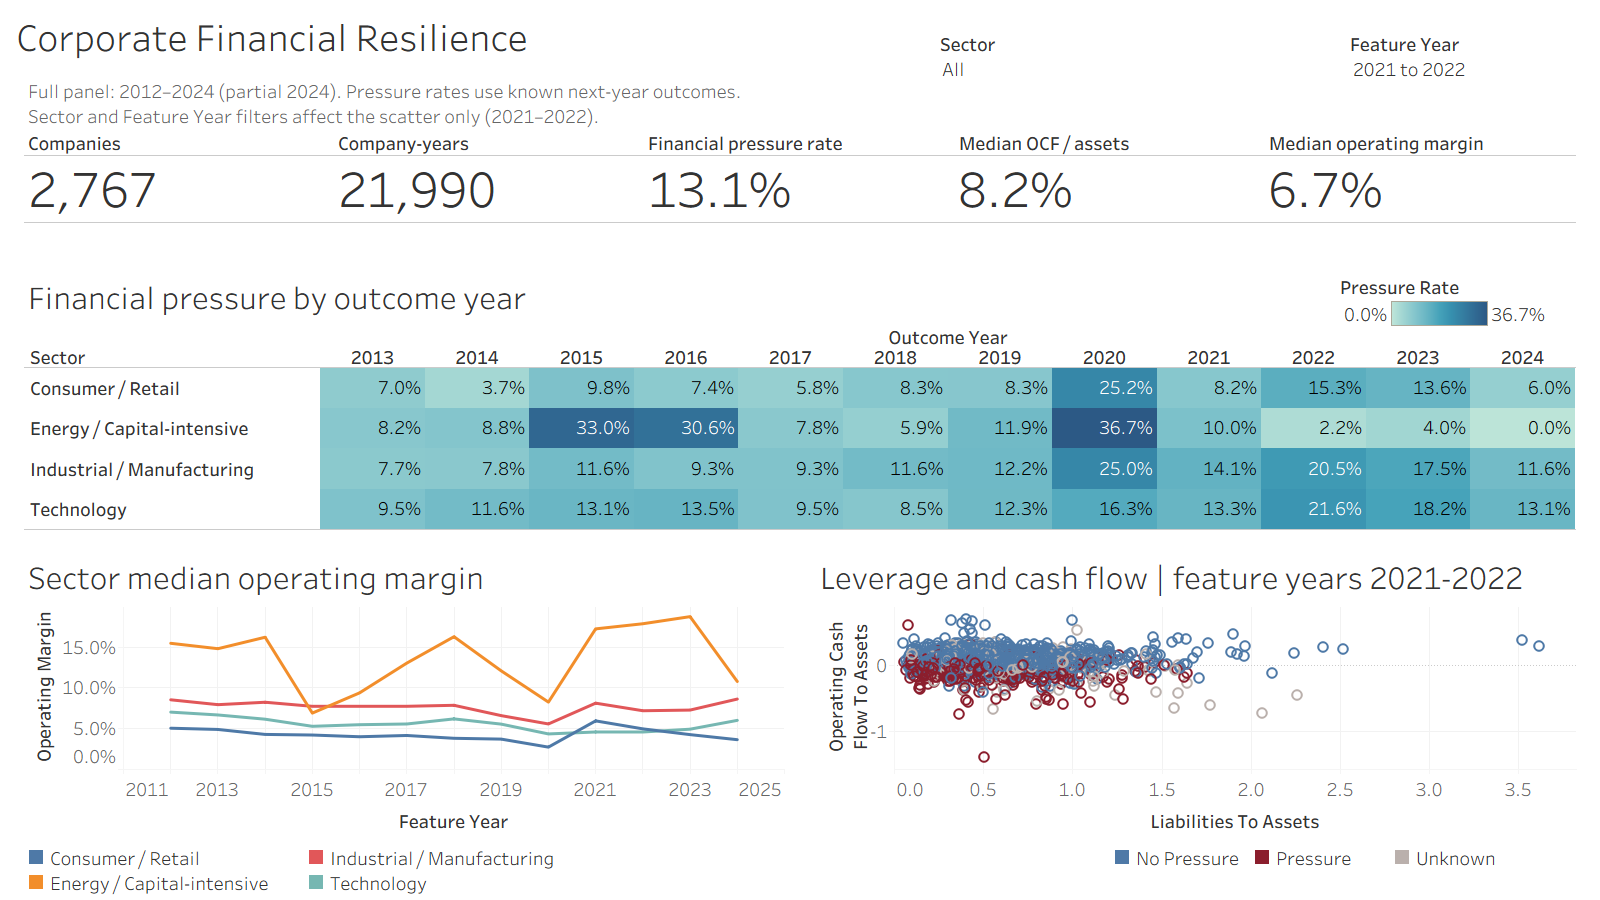

This screenshot's page, from the dashboard's own definition file:
{"tool":"tableau","page":{"name":"Corporate Financial Resilience","canvas":[1600,900],"ordinal":0},"visuals":[{"type":"title","box":[8,8,1584,58]},{"type":"filter","title":"Leverage and cash flow | feature years 2021-2022","param":"[federated.0df5kgj1ynfg3118k1z3f00quwk8].[none:sector:nk]","box":[940,30,390,66]},{"type":"filter","title":"Leverage and cash flow | feature years 2021-2022","param":"[federated.0df5kgj1ynfg3118k1z3f00quwk8].[none:feature_year:qk]","box":[1350,30,230,69]},{"type":"text","box":[24,72,887,63]},{"type":"worksheet","title":"Full-panel indicators","mark":"Automatic","cols":["label"],"box":[24,115,1552,128]},{"type":"worksheet","title":"Financial pressure by outcome year","mark":"Square","rows":["sector"],"cols":["outcome_year"],"box":[24,270,1552,260]},{"type":"legend","title":"Financial pressure by outcome year","param":"[federated.196mwt91lg9fp91179uvn09qubtz].[sum:pressure_rate:qk]","box":[1340,270,210,65]},{"type":"worksheet","title":"Sector median operating margin","mark":"Automatic","rows":["operating_margin"],"cols":["feature_year"],"box":[24,550,760,290]},{"type":"worksheet","title":"Leverage and cash flow | feature years 2021-2022","mark":"Automatic","rows":["operating_cash_flow_to_assets"],"cols":["liabilities_to_assets"],"box":[816,550,760,290]},{"type":"legend","title":"Sector median operating margin","param":"[federated.1826ie102ze2gu1e33l2u0szv5iq].[none:sector:nk]","box":[24,845,760,50]},{"type":"legend","title":"Leverage and cash flow | feature years 2021-2022","param":"[federated.0df5kgj1ynfg3118k1z3f00quwk8].[none:outcome_label:nk]","box":[1110,845,466,50]}]}

Visuals, with their boxes in screenshot pixels (x1, y1, x2, y2), scaled from the page's 1600x900 canvas onto the 1600x900 screenshot:
title: detection(8, 8, 1592, 66)
"Leverage and cash flow | feature years 2021-2022" filter: detection(940, 30, 1330, 96)
"Leverage and cash flow | feature years 2021-2022" filter: detection(1350, 30, 1580, 99)
text: detection(24, 72, 911, 135)
"Full-panel indicators" worksheet: detection(24, 115, 1576, 243)
"Financial pressure by outcome year" worksheet (Square marks): detection(24, 270, 1576, 530)
"Financial pressure by outcome year" legend: detection(1340, 270, 1550, 335)
"Sector median operating margin" worksheet: detection(24, 550, 784, 840)
"Leverage and cash flow | feature years 2021-2022" worksheet: detection(816, 550, 1576, 840)
"Sector median operating margin" legend: detection(24, 845, 784, 895)
"Leverage and cash flow | feature years 2021-2022" legend: detection(1110, 845, 1576, 895)
